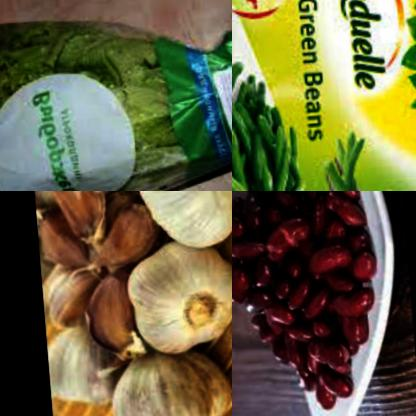fasol: (232, 191, 383, 416), (232, 54, 320, 191), (314, 129, 378, 191)
garlic: (109, 237, 232, 368), (92, 344, 224, 416), (70, 267, 139, 366), (129, 191, 232, 257), (38, 323, 111, 416), (77, 201, 152, 281), (33, 231, 88, 327), (27, 191, 108, 248)
